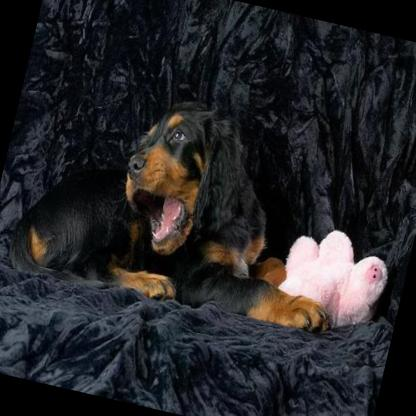Gordon_setter: (5, 64, 370, 337)
